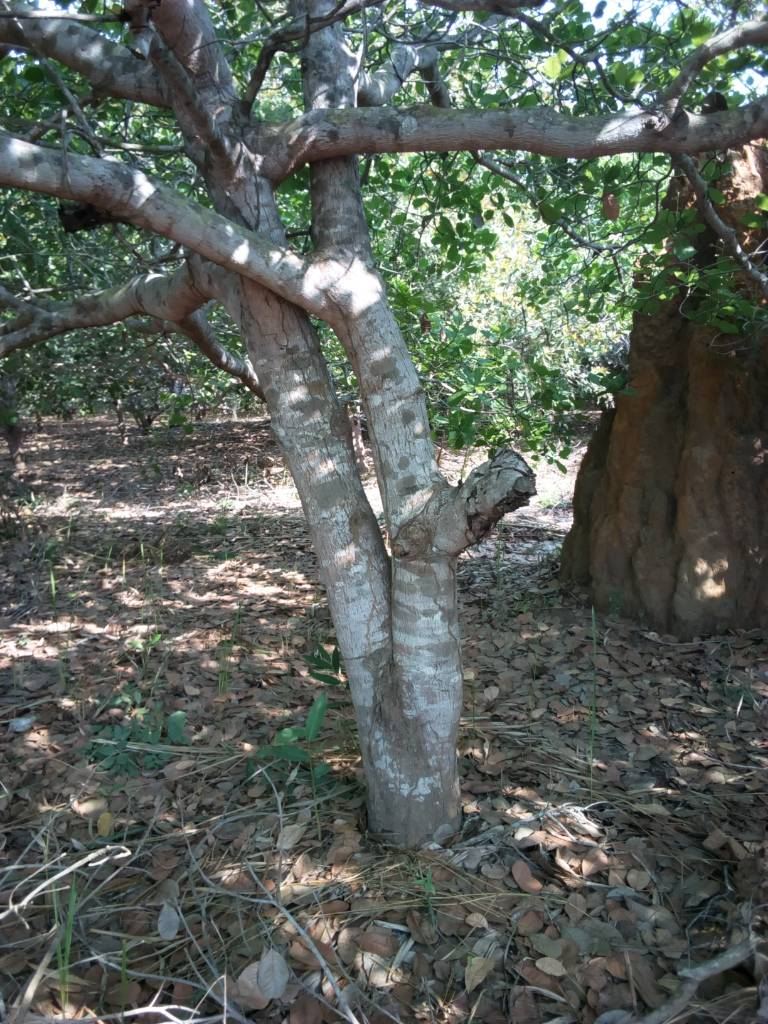Termites: (600, 357, 761, 630)
